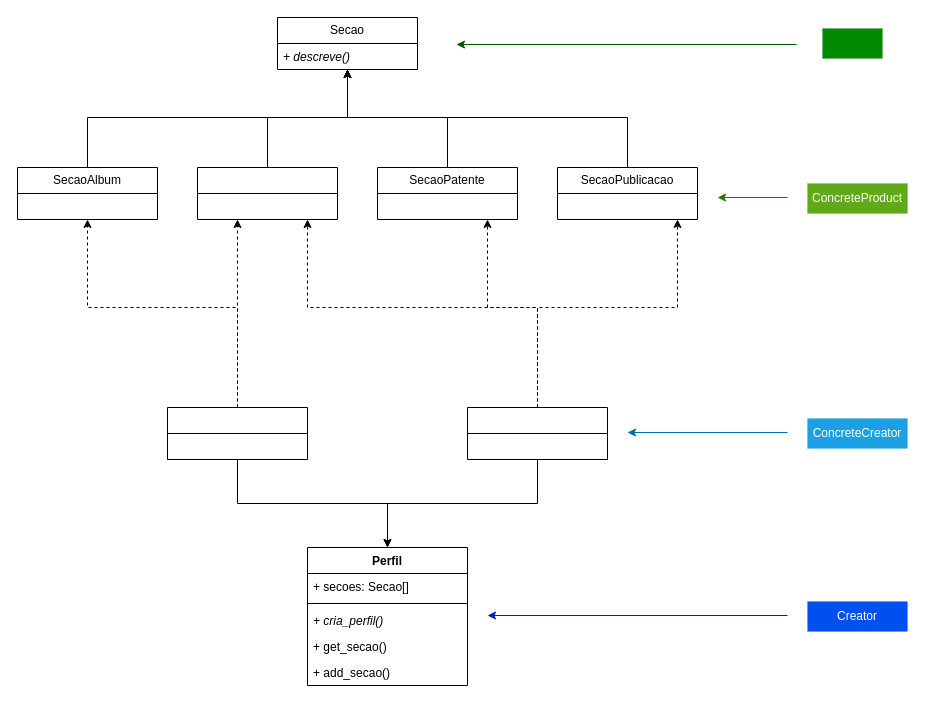
Some shapes in this 925 by 706 pixel diagram are drawn without their labels. The shapes that lost their labels are listed below. From the top down, each one's centre as x and y in pixels, then its label:
At (x=852, y=43): "Product".
At (x=267, y=193): "SecaoPessoal".
At (x=237, y=433): "Facebook".
At (x=537, y=433): "Linkedin".
